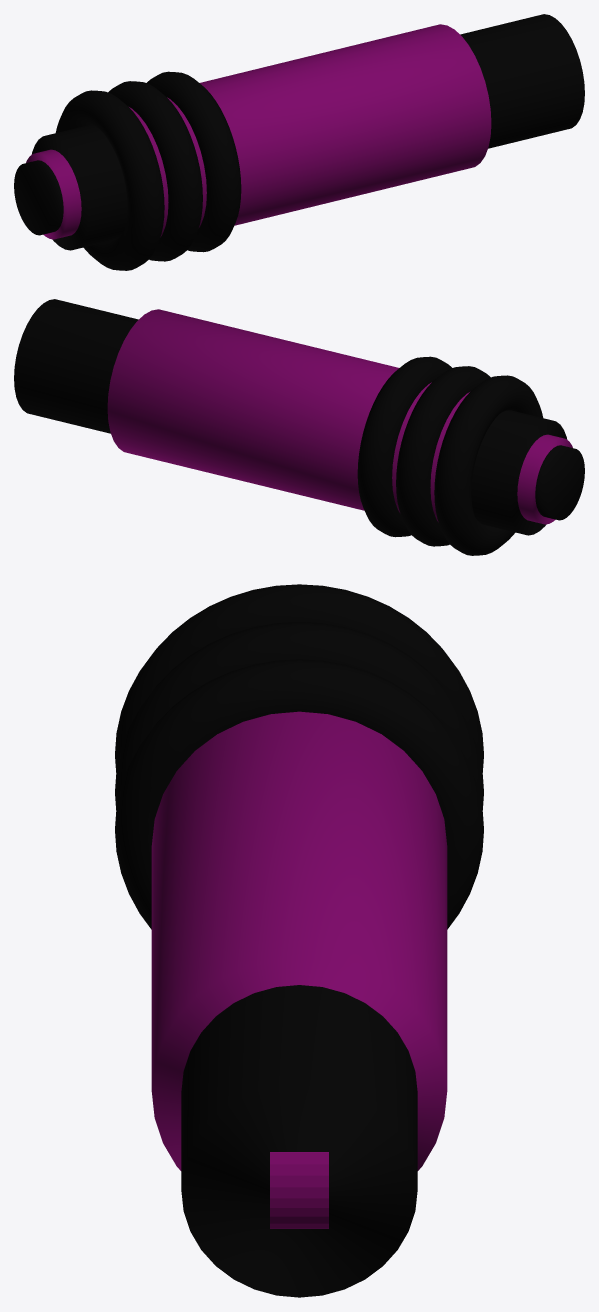
The model's file is weapon.glb.
3 views of the same model, one above another, from view 1: azimuth 30°, elevation 25°; view 2: azimuth 150°, elevation 25°; view 3: azimuth 270°, elevation 25° (orthographic). The views are drawn at different scales.
Visible parts, largest first — view 1: Cyl2, Cylinder.001, Ring1, Ring3, Ring2, Lock, Cyl3; view 2: Cyl2, Cylinder.001, Ring1, Ring3, Ring2, Lock, Cyl3; view 3: Cyl2, Cylinder.001, Ring3, Ring2, Ring1, Trigger.
Boxes of the visible parts, bbox=[...] form: Cyl2: bbox=[129, 24, 491, 237]; Cylinder.001: bbox=[31, 14, 584, 250]; Ring1: bbox=[55, 90, 164, 270]; Ring3: bbox=[146, 71, 241, 252]; Ring2: bbox=[108, 81, 202, 261]; Lock: bbox=[14, 160, 63, 235]; Cyl3: bbox=[26, 149, 81, 239]; Cyl2: bbox=[107, 309, 469, 522]; Cylinder.001: bbox=[14, 299, 567, 535]; Ring1: bbox=[434, 375, 543, 555]; Ring3: bbox=[357, 356, 452, 537]; Ring2: bbox=[396, 366, 490, 546]; Lock: bbox=[535, 445, 584, 520]; Cyl3: bbox=[517, 434, 572, 524]; Cyl2: bbox=[151, 711, 447, 1170]; Cylinder.001: bbox=[181, 985, 417, 1297]; Ring3: bbox=[115, 659, 483, 929]; Ring2: bbox=[115, 622, 483, 809]; Ring1: bbox=[115, 584, 483, 772]; Trigger: bbox=[270, 1152, 328, 1228].
Bounding box in the file's own units: 8.3 × 2.5 × 2.5.
